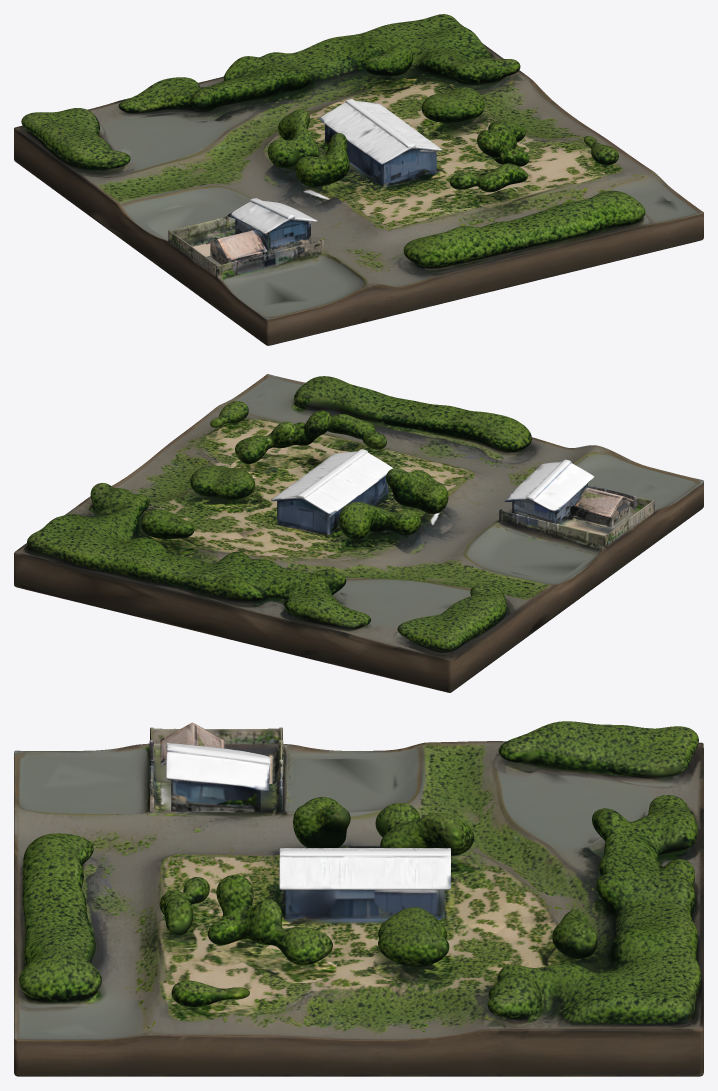
Rendered from Giongcavvo-v1.glb.
3 renders of one model, top to bottom at view 1: azimuth 30°, elevation 25°; view 2: azimuth 150°, elevation 25°; view 3: azimuth 270°, elevation 25°, orthographic. The views are drawn at different scales.
Parts seen in each view (by area): view 1: node_0; view 2: node_0; view 3: node_0.
Part boxes in pixels (x1,y1,x2,y2): node_0: (14,14,703,345); node_0: (14,374,703,692); node_0: (14,721,703,1076).
Size of the model in its own units: 0.844 by 0.1521 by 0.8469.
Materials: 1 (1 with a texture image).
